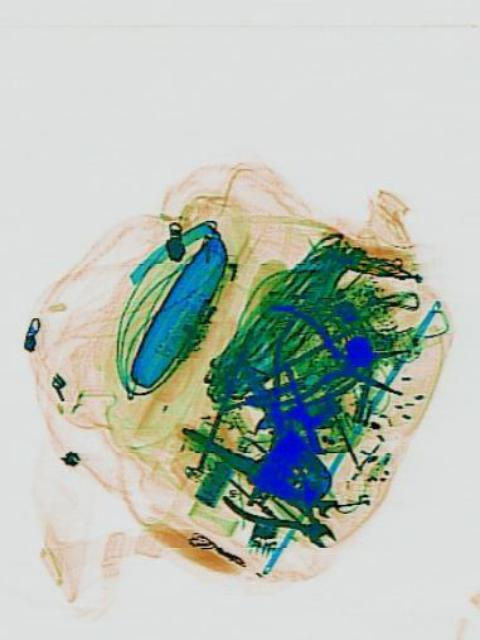Pliers: (176, 326, 358, 546), (217, 415, 357, 585), (238, 298, 409, 422)
Wrench: (272, 464, 337, 520)
